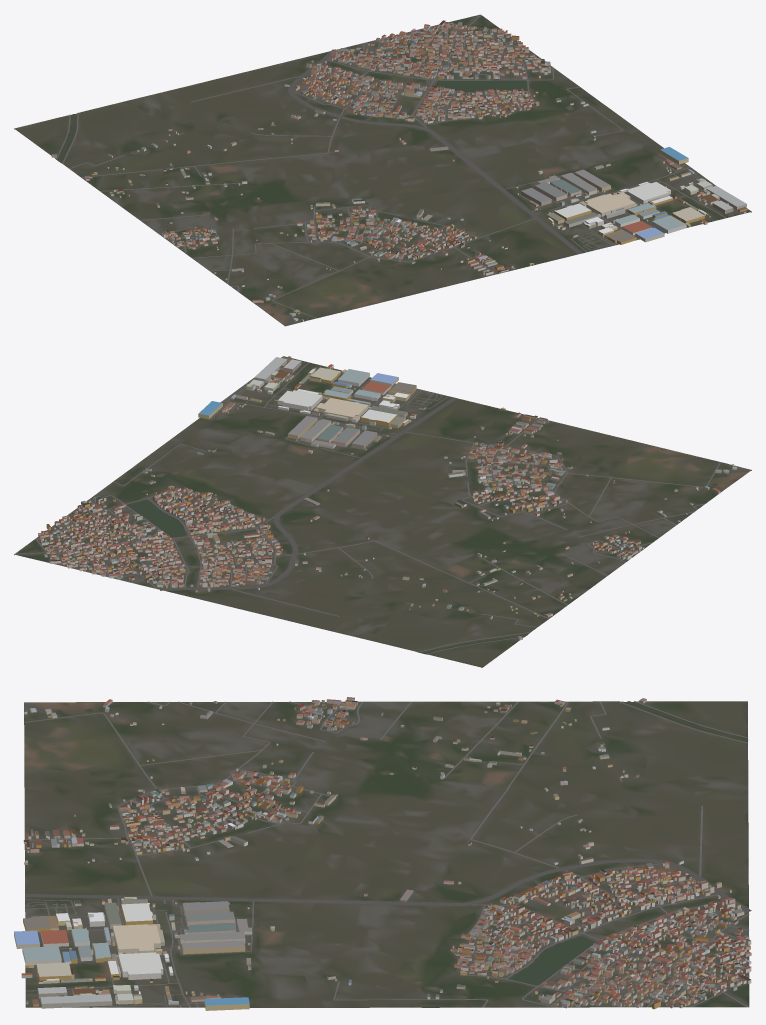
The picture shows the model from 3 angles, top to bottom: view 1: azimuth 30°, elevation 25°; view 2: azimuth 150°, elevation 25°; view 3: azimuth 270°, elevation 25°; orthographic projection. The views are drawn at different scales.
Parts seen in each view (by area): view 1: ground, buildings, roads, water; view 2: ground, buildings, roads, water; view 3: ground, buildings, roads, water.
Part boxes in pixels (box(x1,y1,x2,y2)): ground: box(14, 14, 751, 326); buildings: box(51, 20, 747, 321); roads: box(56, 15, 726, 318); water: box(58, 80, 526, 306); ground: box(14, 356, 751, 667); buildings: box(38, 356, 736, 639); roads: box(15, 362, 720, 654); water: box(127, 483, 717, 653); ground: box(24, 701, 749, 1007); buildings: box(14, 697, 751, 1010); roads: box(24, 701, 751, 1007); water: box(85, 701, 748, 984).
Size of the model in its own units: 1419 by 19.17 by 1429.
